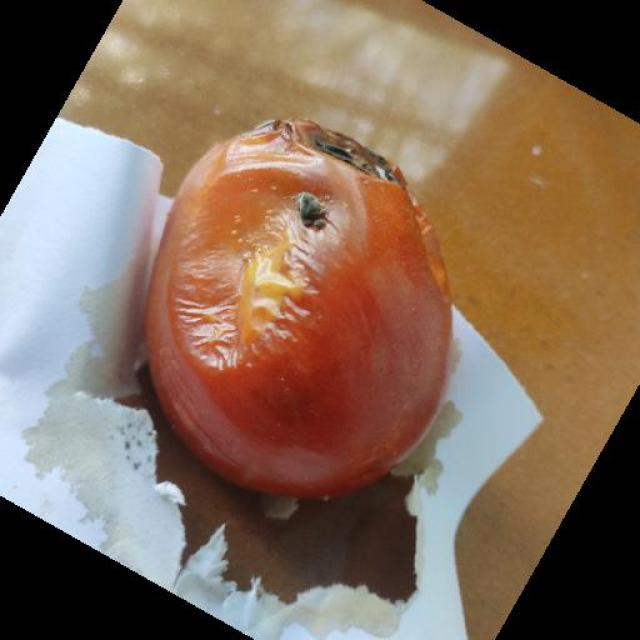Stale_tomato: (88, 106, 498, 512)
